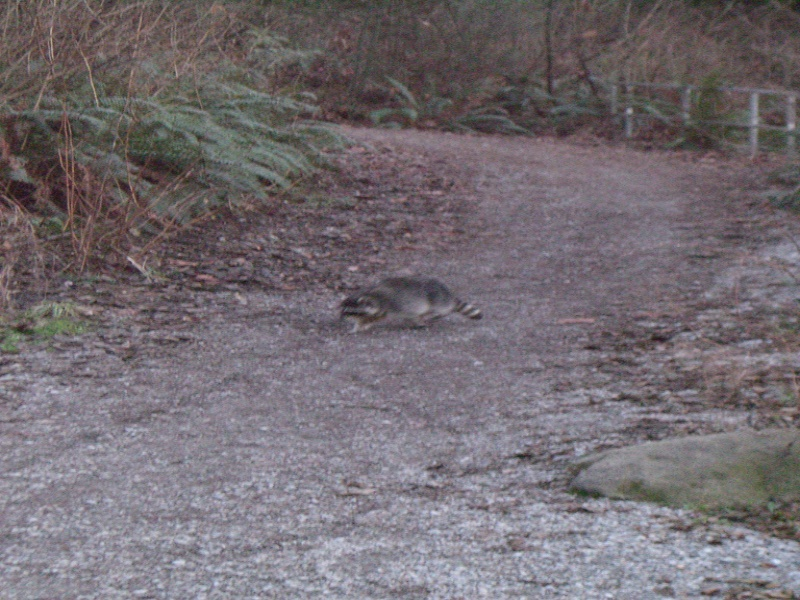raccoon: (338, 276, 485, 330)
